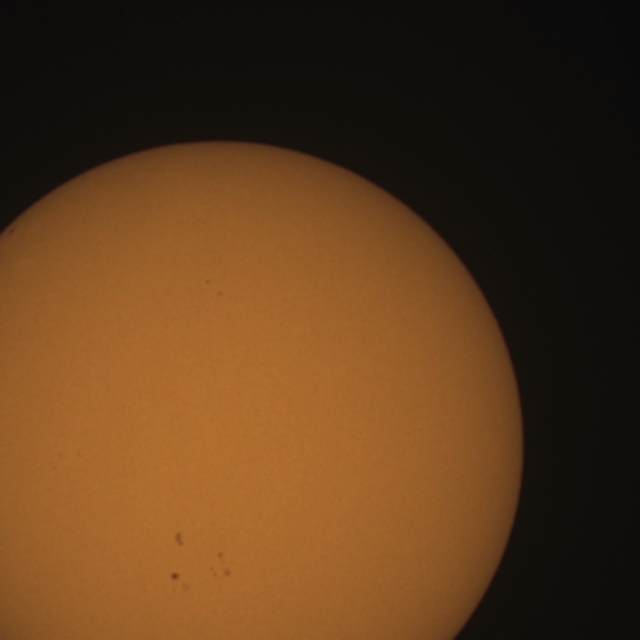sunspot: (209, 551, 234, 580), (168, 570, 192, 594), (204, 278, 224, 297), (173, 531, 185, 548), (169, 571, 180, 582), (216, 290, 224, 298), (204, 278, 212, 286)
